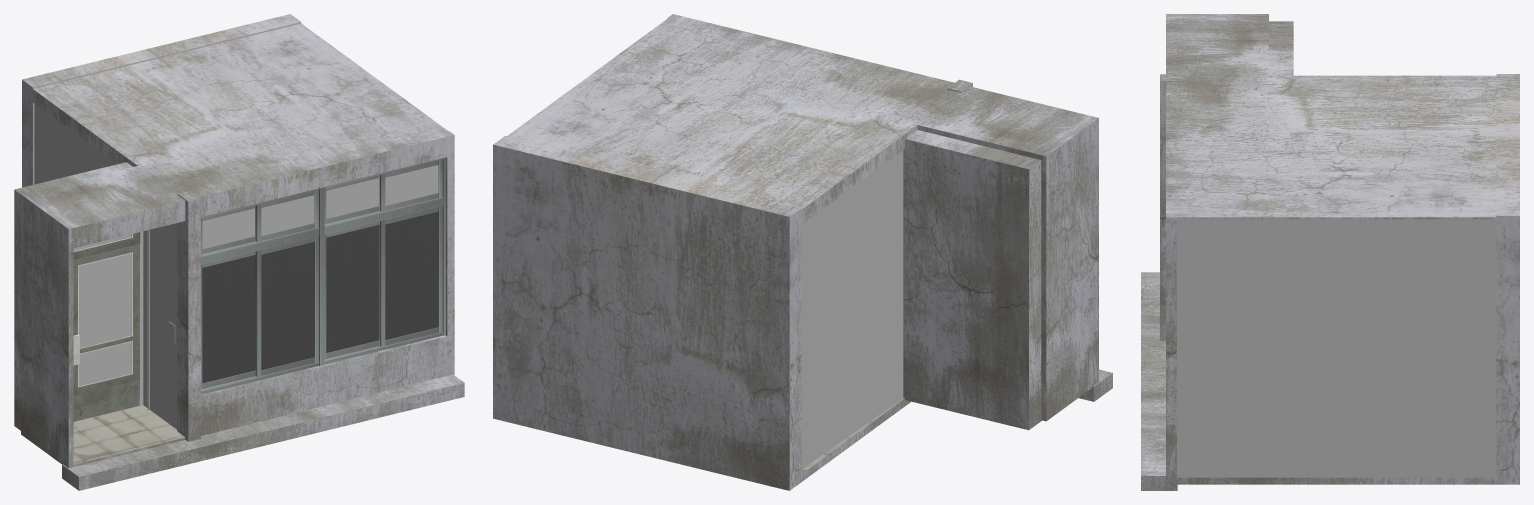
The model's file is shop_f_null08b.fbx.
3 renders of one model, left to right at view 1: azimuth 30°, elevation 25°; view 2: azimuth 150°, elevation 25°; view 3: azimuth 270°, elevation 25°, orthographic. The views are drawn at different scales.
Visible parts, largest first — view 1: shop_f_null08b; view 2: shop_f_null08b; view 3: shop_f_null08b.
Part boxes in pixels (box(x1,y1,x2,y2)): shop_f_null08b: box(14, 14, 464, 490); shop_f_null08b: box(493, 14, 1112, 490); shop_f_null08b: box(1141, 14, 1519, 490).
Bounding box in the file's own units: 5.42 × 3.41 × 4.25.
